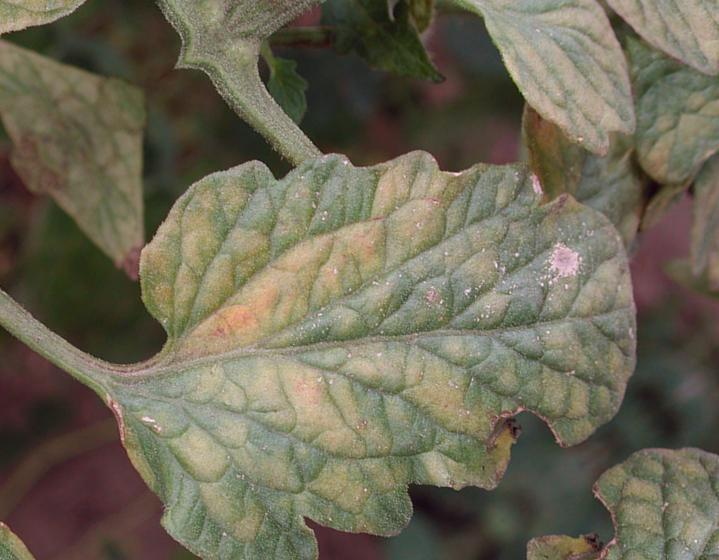Tomato mold leaf: (10, 0, 719, 560), (455, 0, 682, 201)
